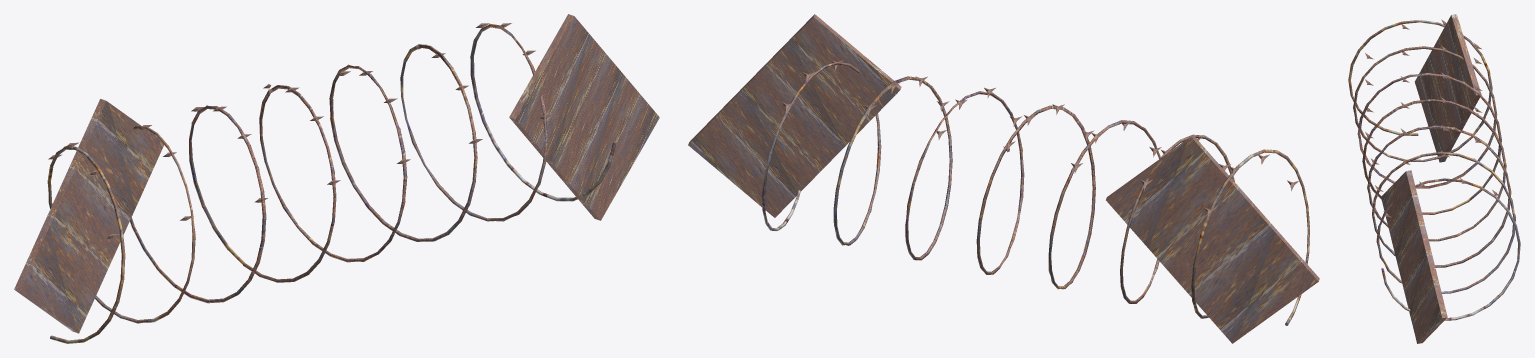
File: trap_wire.FBX
3 views of the same model, side by side, from view 1: azimuth 30°, elevation 25°; view 2: azimuth 150°, elevation 25°; view 3: azimuth 270°, elevation 25° (orthographic). The views are drawn at different scales.
Parts seen in each view (by area): view 1: Box009, Box008, Loft001; view 2: Box009, Box008, Loft001; view 3: Loft001, Box008, Box009.
Part boxes in pixels (box(x1,y1,x2,y2)): Box009: box(14, 99, 163, 333); Box008: box(509, 14, 659, 220); Loft001: box(47, 24, 616, 343); Box009: box(1106, 135, 1319, 343); Box008: box(688, 14, 901, 217); Loft001: box(762, 61, 1309, 325); Loft001: box(1348, 20, 1520, 320); Box008: box(1381, 170, 1447, 343); Box009: box(1415, 14, 1481, 162).
Bounding box in the file's own units: 8.93 × 2.83 × 2.75.
1 material, 1 textured.
